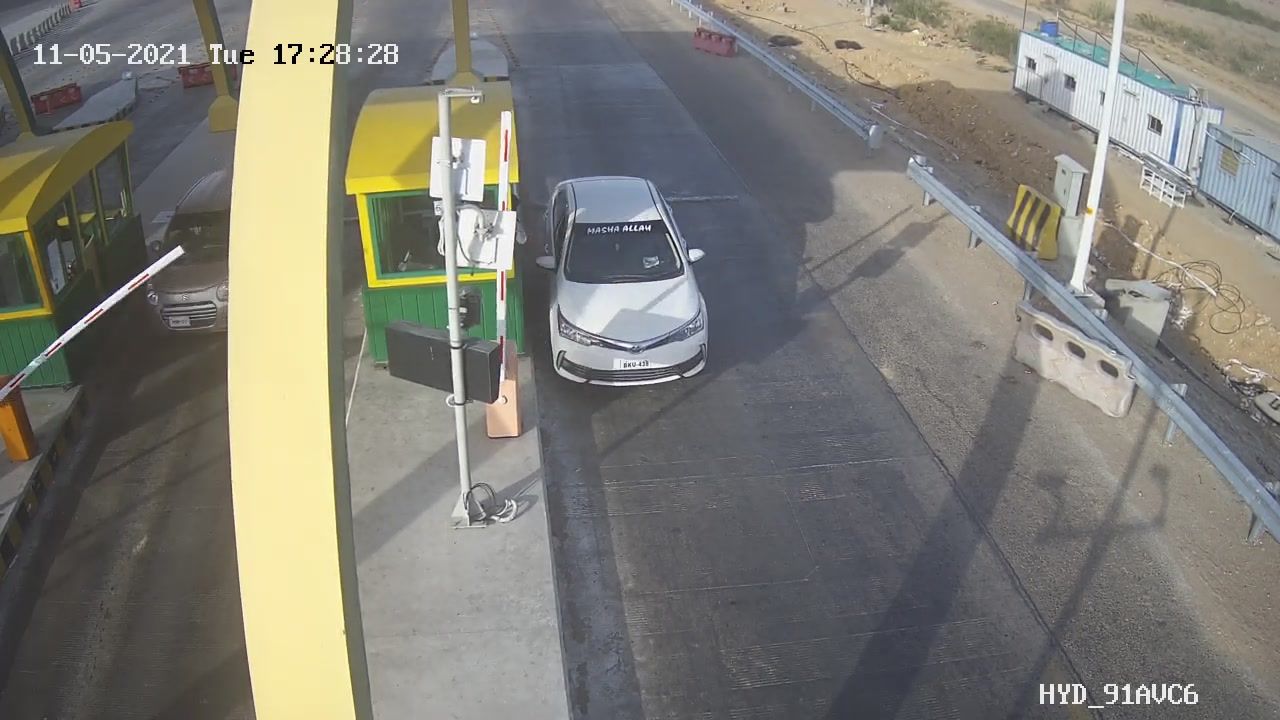F1: (508, 159, 738, 411)
